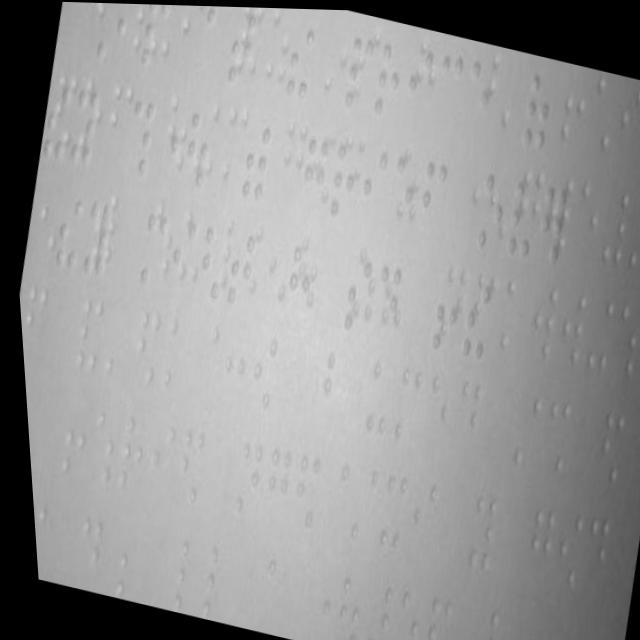braiile: (449, 46, 500, 139), (422, 45, 470, 136), (406, 151, 452, 241), (364, 32, 409, 122), (318, 135, 363, 225), (347, 141, 393, 229), (128, 206, 172, 294), (215, 225, 258, 311), (188, 4, 232, 88)
